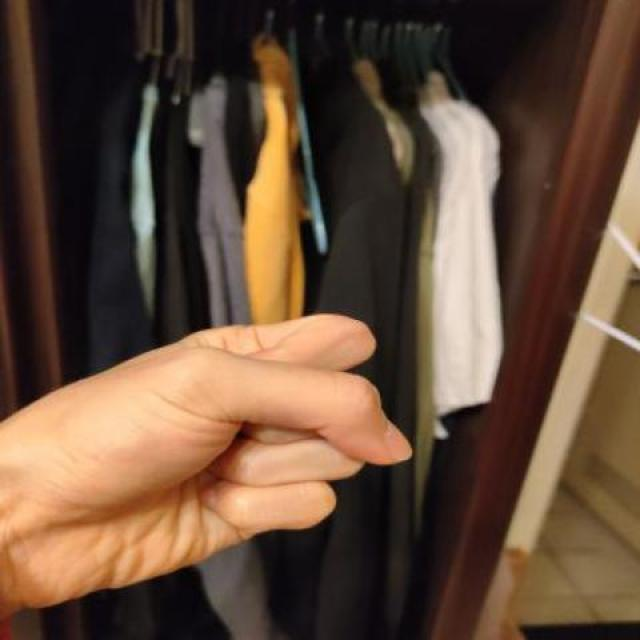Closed Hand: (0, 289, 412, 640)
